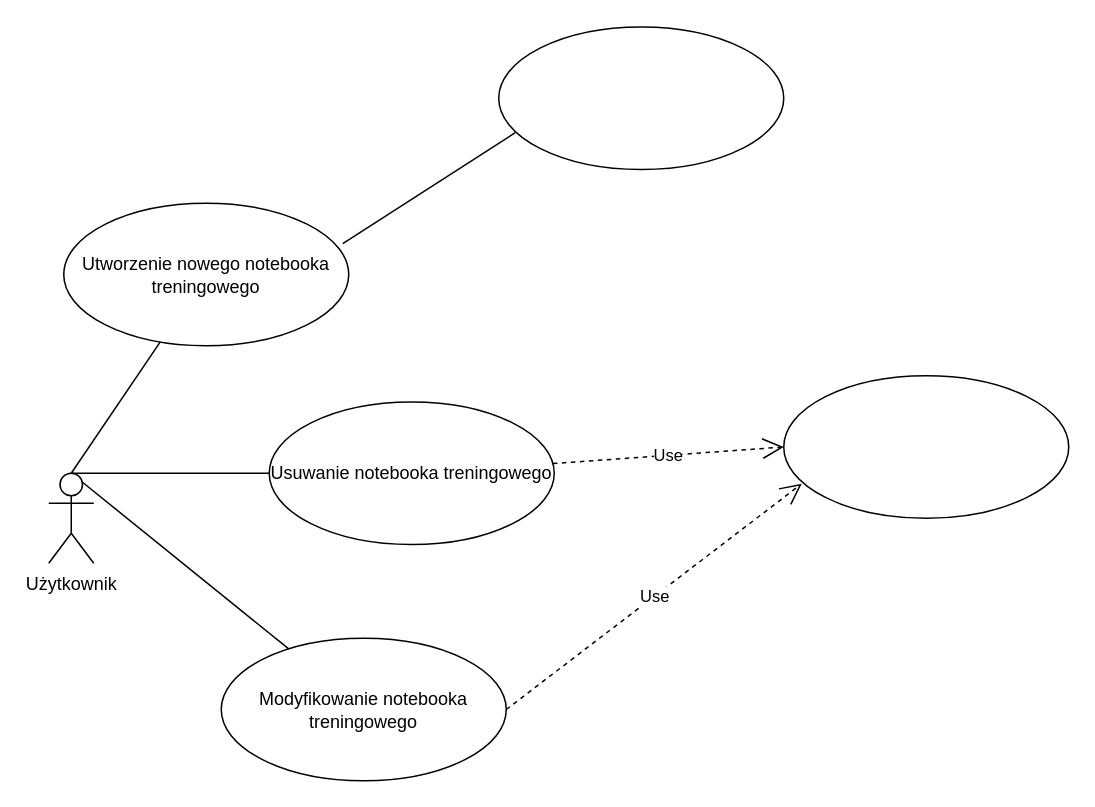
Image size: 1095x807. Some labels were removed from this diagram. The shapes that lost their labels are listed below. From the top down, each one's centre as x and y in pixels, then its label:
the point at 640,98: Logowanie
the point at 925,446: Przeglądanie notebooka treningowego
